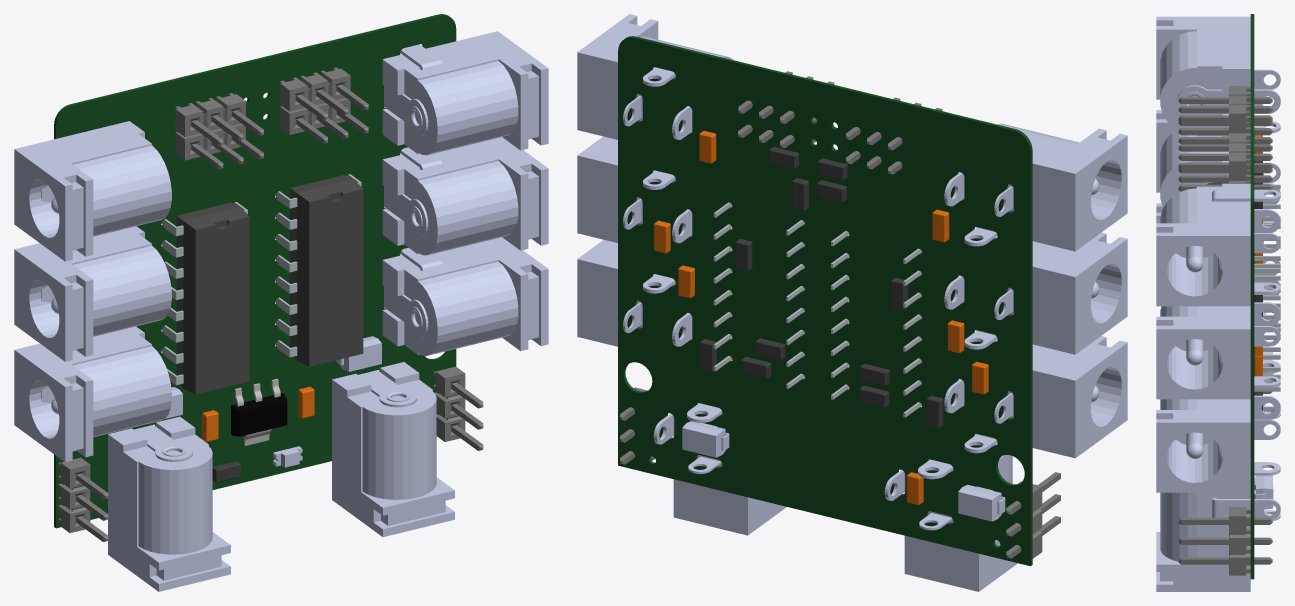
The model's file is board-2-4dL293.glb.
The picture shows the model from 3 angles, left to right: view 1: azimuth 30°, elevation 25°; view 2: azimuth 150°, elevation 25°; view 3: azimuth 270°, elevation 25°; orthographic projection. The views are drawn at different scales.
Parts seen in each view (by area): view 1: PCB, NAUO1_4, NAUO1_2, NAUO1_1, NAUO1, NAUO1_6, NAUO1_3, NAUO1_8, NAUO1_5, =>[0:1:1:2], =>[0:1:1:2]_1, =>[0:1:1:3] (+2 smaller); view 2: PCB, NAUO1_3, NAUO1_8, NAUO1_5, NAUO1_4, NAUO1_1, NAUO1, NAUO1_6, NAUO1_2, =>[0:1:1:3], =>[0:1:1:3]_1; view 3: PCB, NAUO1_4, NAUO1_6, NAUO1, NAUO1_3, NAUO1_2, NAUO1_5, =>[0:1:1:3], =>[0:1:1:3]_1, NAUO1_8, NAUO1_1.
Boxes of the visible parts, box(x1,y1,x2,y2) form: PCB: box(54, 14, 483, 541); NAUO1_4: box(382, 31, 548, 155); NAUO1_2: box(332, 362, 454, 537); NAUO1_1: box(108, 416, 230, 591); NAUO1: box(382, 237, 548, 355); NAUO1_6: box(382, 137, 548, 255); NAUO1_3: box(14, 121, 171, 261); NAUO1_8: box(14, 326, 171, 462); NAUO1_5: box(14, 226, 171, 361); =>[0:1:1:2]: box(290, 175, 363, 366); =>[0:1:1:2]_1: box(176, 202, 249, 394); =>[0:1:1:3]: box(275, 174, 361, 357); PCB: box(618, 36, 1060, 566); NAUO1_3: box(944, 123, 1127, 251); NAUO1_8: box(944, 336, 1127, 458); NAUO1_5: box(944, 232, 1127, 354); NAUO1_4: box(577, 14, 733, 139); NAUO1_1: box(884, 434, 1017, 591); NAUO1: box(577, 240, 732, 346); NAUO1_6: box(577, 136, 731, 243); NAUO1_2: box(653, 403, 786, 535); =>[0:1:1:3]: box(713, 202, 804, 388); =>[0:1:1:3]_1: box(831, 231, 921, 417); PCB: box(1178, 14, 1273, 579); NAUO1_4: box(1156, 183, 1280, 306); NAUO1_6: box(1156, 282, 1280, 399); NAUO1: box(1156, 376, 1280, 492); NAUO1_3: box(1156, 16, 1280, 136); NAUO1_2: box(1156, 462, 1280, 591); NAUO1_5: box(1156, 110, 1280, 223); =>[0:1:1:3]: box(1254, 236, 1280, 411); =>[0:1:1:3]_1: box(1254, 184, 1280, 339); NAUO1_8: box(1156, 203, 1280, 315); NAUO1_1: box(1160, 360, 1280, 419).
Bounding box in the file's own units: 0.0604 × 0.0547 × 0.0145.
